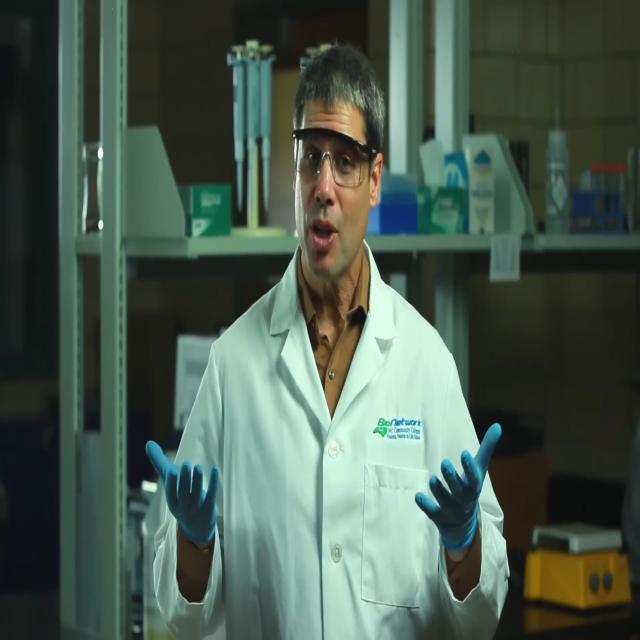googles: (292, 122, 384, 194)
labcoat: (148, 231, 513, 640)
